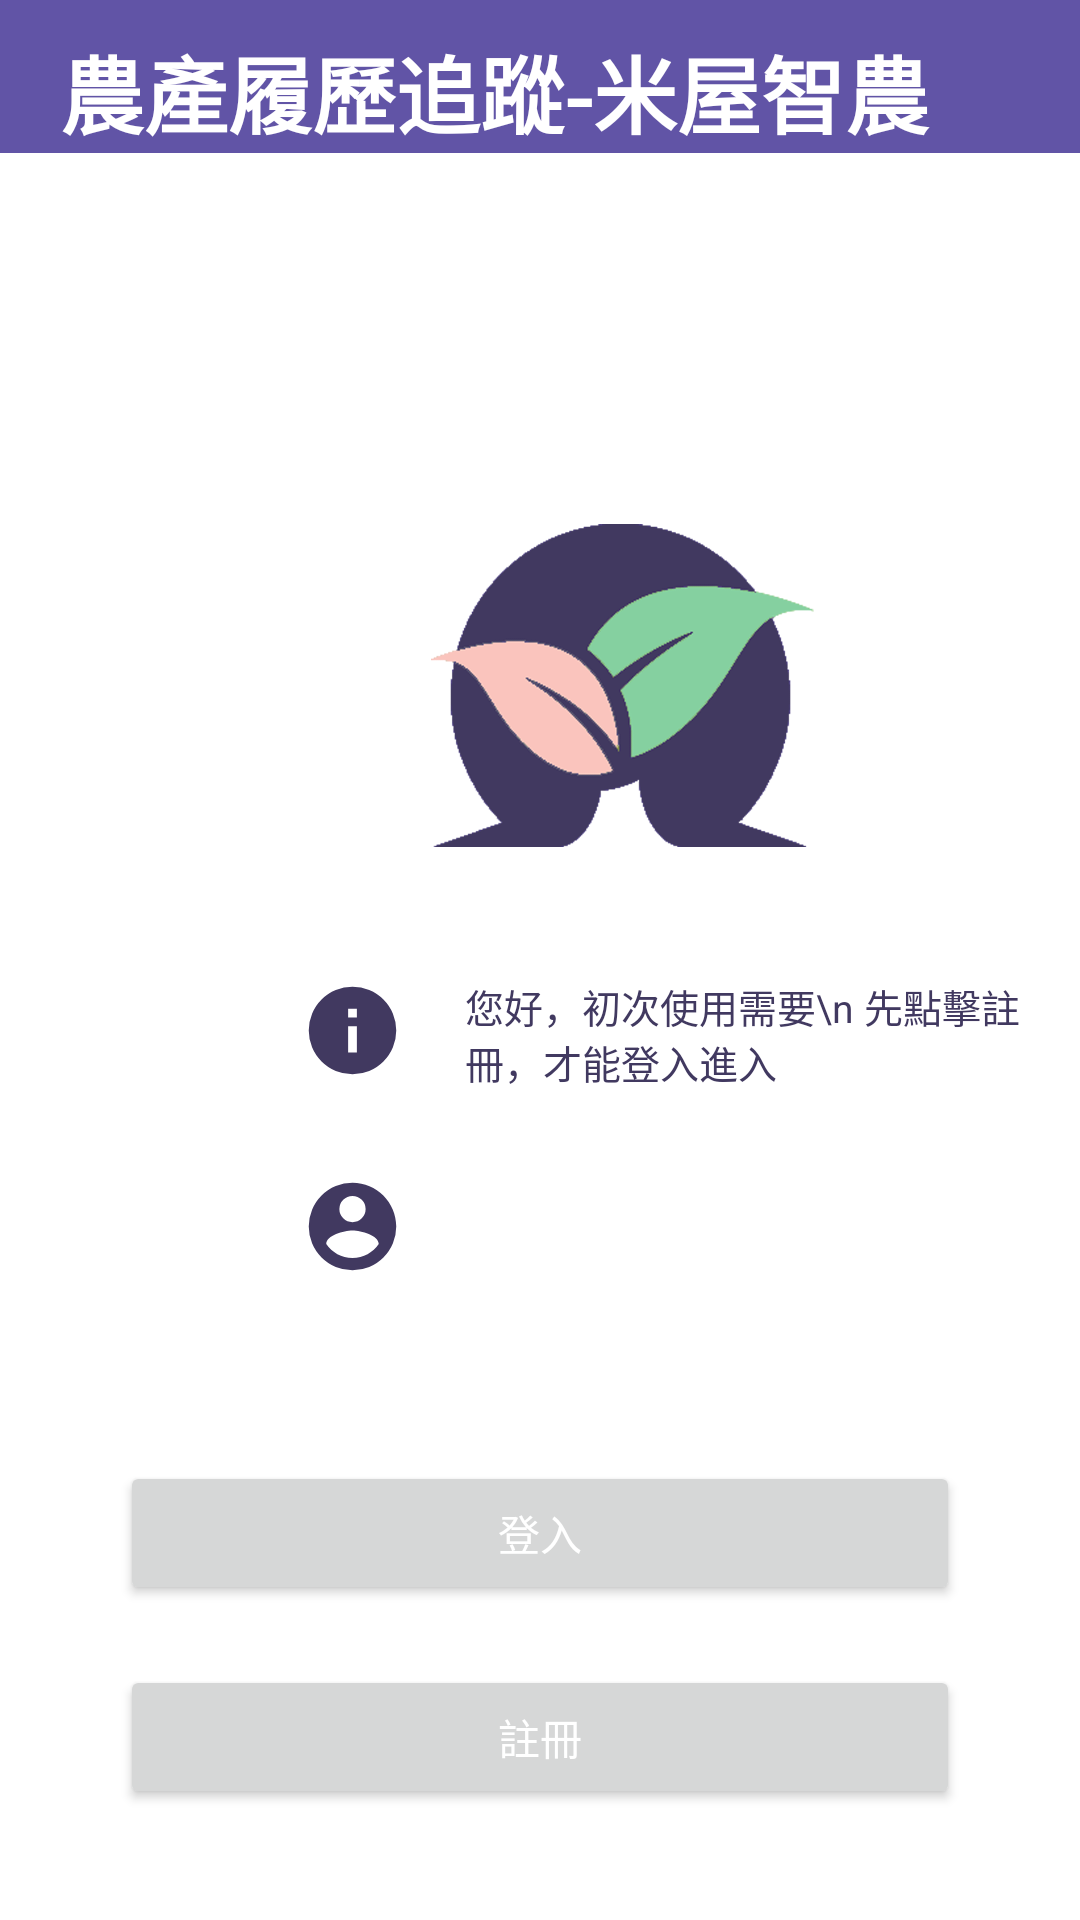

Where icons sit on this 1080 × 1920 app screen, as (x1, y1, x2, y2):
account circle: (308, 1182, 397, 1271)
information: (308, 986, 397, 1075)
